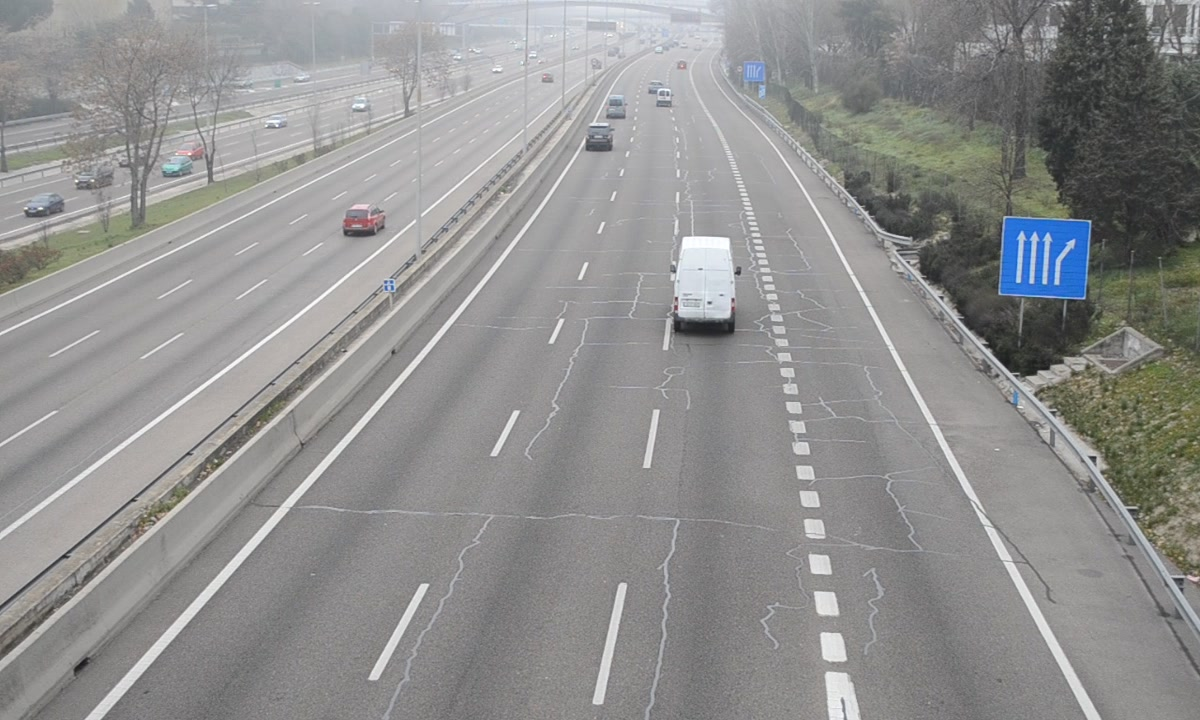car: (584, 123, 615, 151)
van: (674, 235, 737, 335), (606, 93, 628, 118)
